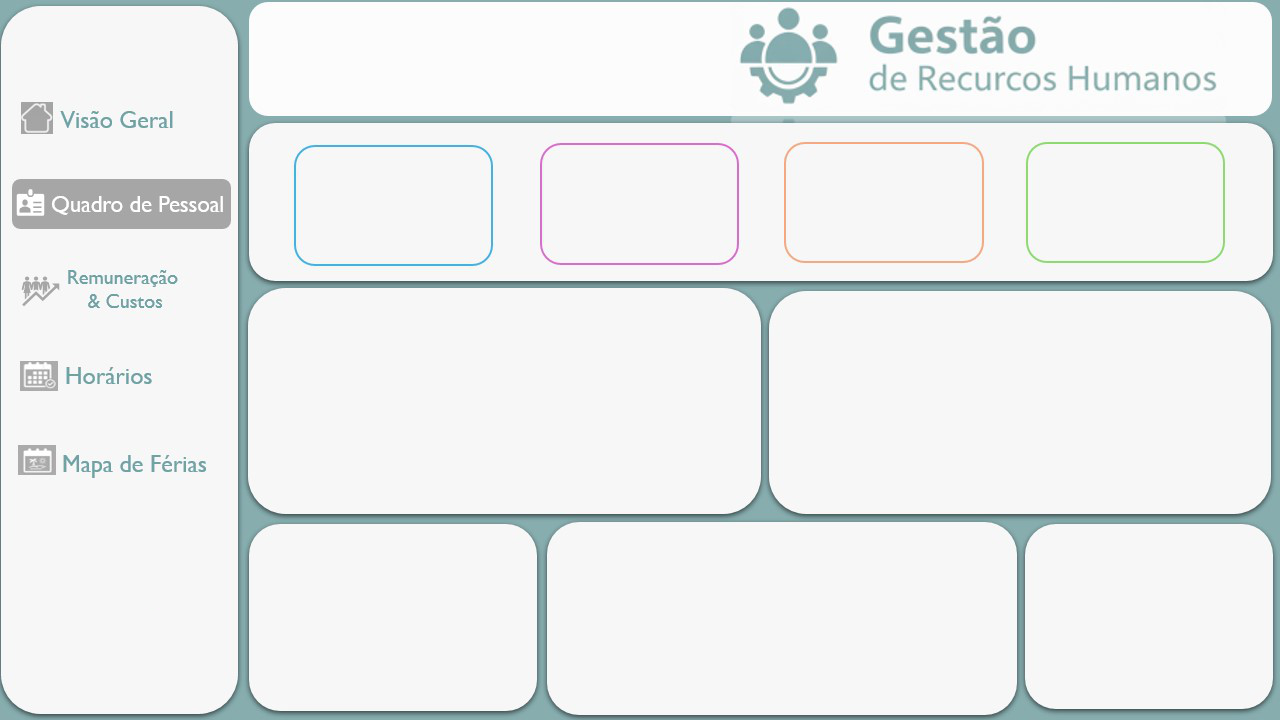

The page's visual inventory and layout, read from the dashboard file:
{"tool":"powerbi","page":{"name":"Quadro de Pessoal","canvas":[1280,720],"ordinal":1},"visuals":[{"type":"multiRowCard","fields":{"Values":["Medidas.Total de Funcionario"]},"box":[298.6,158.9,187.6,89.9],"z":0},{"type":"donutChart","fields":{"Category":["Status Funcional.Status"],"Y":["Medidas.Contagem Total"]},"box":[277.5,526.4,231.6,179.9],"z":1000},{"type":"multiRowCard","fields":{"Values":["Medidas.Próximo Aniversariante","Medidas.Próxima Data Aniversário"]},"box":[252.7,304.3,501.5,193.3],"z":2000},{"type":"actionButton","box":[0,0,100,40],"z":3000},{"type":"pivotTable","fields":{"Rows":["Cargo.Cargo"],"Values":["Medidas.Contagem de Funcionários por Cargo"]},"box":[788.3,292.7,468.8,208.6],"z":4000},{"type":"gauge","title":"Taxa de Rotatividade Anual","fields":{"Y":["Média de Antiguidade anos.Taxa de Rotatividade Anual (%)"]},"box":[780.3,148.7,206.6,118.4],"z":5000},{"type":"clusteredColumnChart","title":"Contagem de Funcionários por Localidade","fields":{"Category":["Localidade.Localidade"],"Y":["Média de Antiguidade anos.Contagem de Funcionários por Cargo"]},"box":[563.3,533.3,428.3,180],"z":6000},{"type":"multiRowCard","fields":{"Values":["Medidas.Funcionários Ativos","Medidas.Funcionários Desligados"]},"box":[545,145,196.7,110],"z":7000},{"type":"pieChart","title":"Contagem de Funcionários por Sexo","fields":{"Category":["Sexo.Sexo"],"Y":["Média de Antiguidade anos.Contagem de Funcionários por Cargo"]},"box":[1023.1,526.2,256.9,186.2],"z":8000},{"type":"card","fields":{"Values":["Média de Antiguidade anos.Média Salarial Ativos (€)"]},"box":[1008.7,131.9,233.3,123.2],"z":9000}]}

Visuals, with their boxes on the page's 1280x720 design canvas (x1, y1, x2, y2). These are canvas units, not pixel positions in the 1280x720 screenshot, which may show the page scaled, cropped or inside an application window:
multiRowCard - Medidas.Total de Funcionario: 299,159,486,249
donutChart - Status Funcional.Status x Medidas.Contagem Total: 278,526,509,706
multiRowCard - Medidas.Próximo Aniversariante x Medidas.Próxima Data Aniversário: 253,304,754,498
actionButton: 0,0,100,40
pivotTable - Cargo.Cargo x Medidas.Contagem de Funcionários por Cargo: 788,293,1257,501
"Taxa de Rotatividade Anual" gauge: 780,149,987,267
"Contagem de Funcionários por Localidade" clusteredColumnChart: 563,533,992,713
multiRowCard - Medidas.Funcionários Ativos x Medidas.Funcionários Desligados: 545,145,742,255
"Contagem de Funcionários por Sexo" pieChart: 1023,526,1280,712
card - Média de Antiguidade anos.Média Salarial Ativos (€): 1009,132,1242,255
